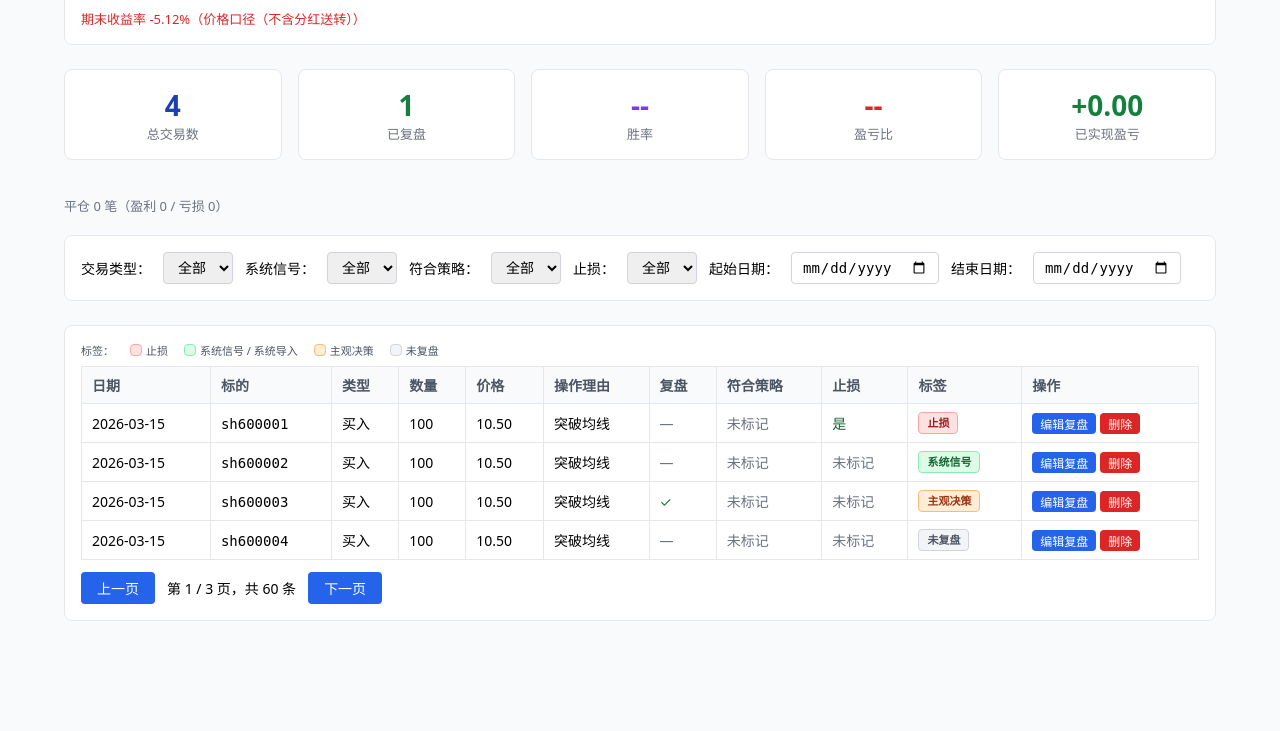
Test: T69 ③ · 分页可推进（修 setPage 缺失 bug） › 第 1 页时「上一页」禁用，最后一页时「下一页」禁用
(page scrolled)
Check: the button "上一页" is disabled, box [81,572,155,604]
Click the button "下一页". click: (345, 588)
box: [308,572,382,604]
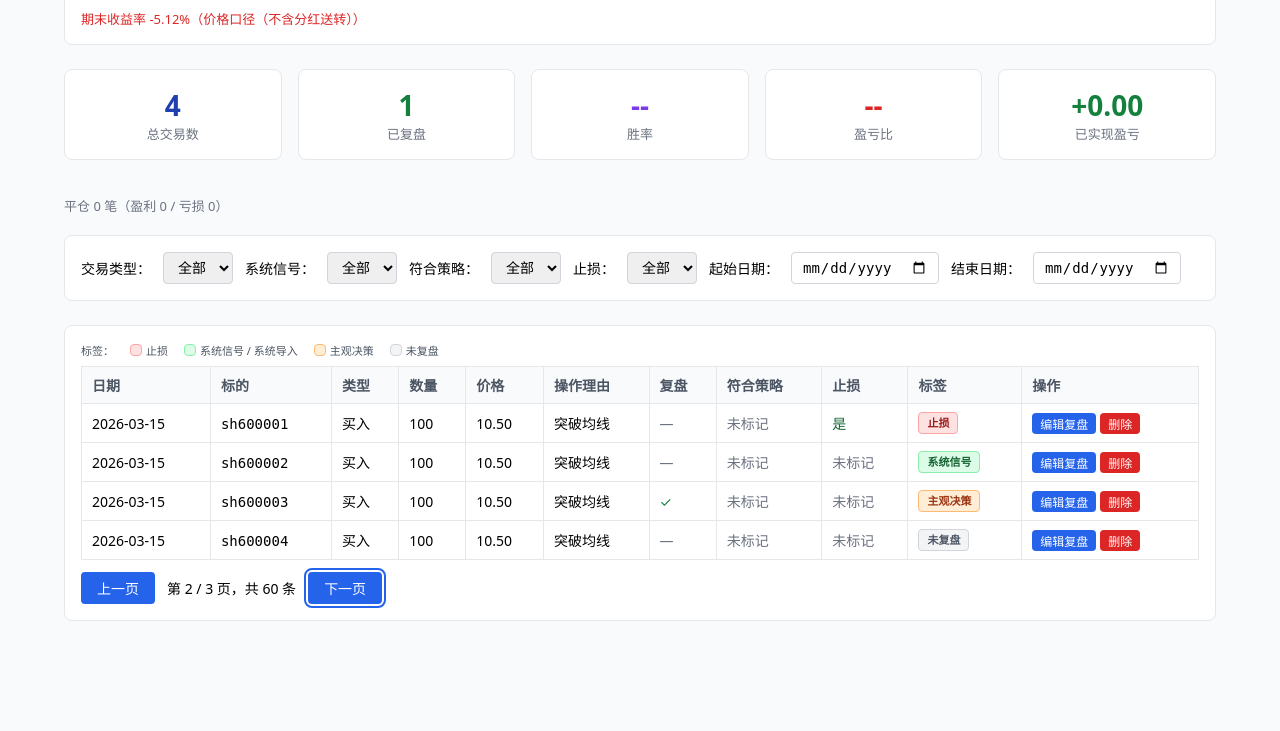
Check: the text "第 2 / 3 页，共 60 条" is shown, box [167,578,296,598]
Click the button "下一页". click: (345, 588)
box: [308,572,382,604]
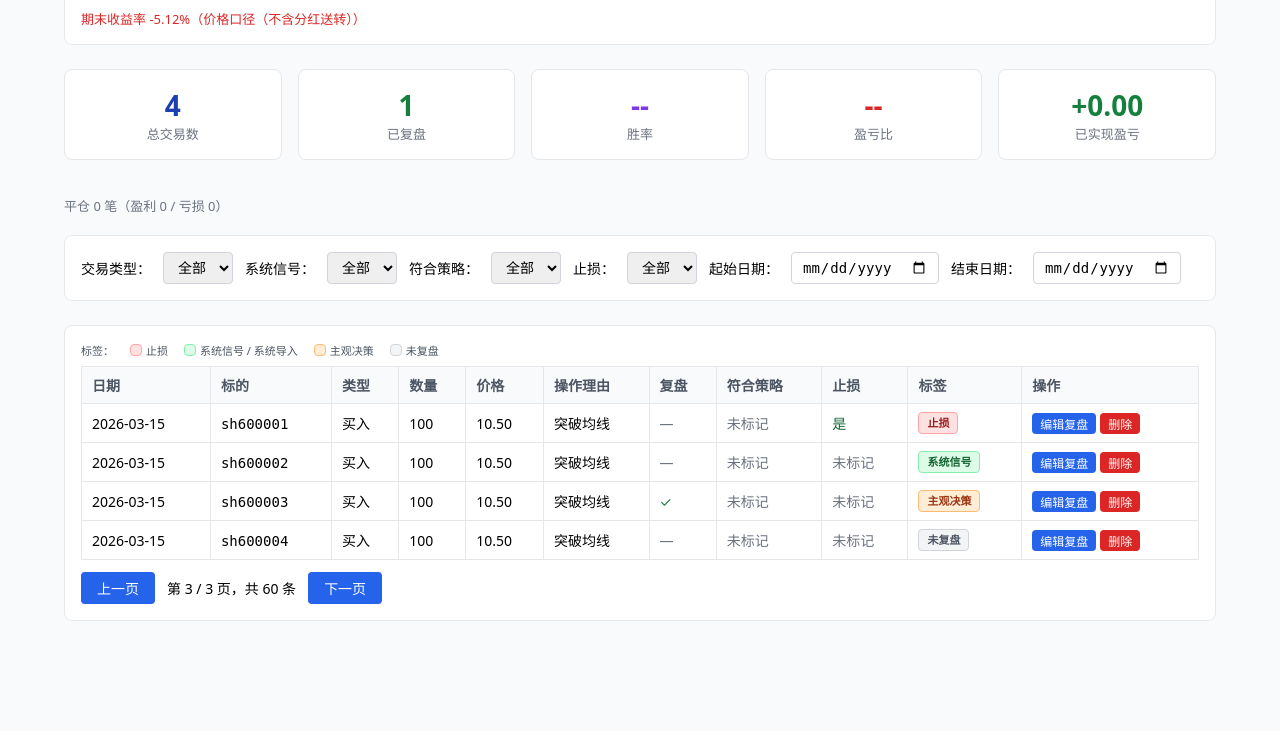
Check: the text "第 3 / 3 页，共 60 条" is shown, box [167,578,296,598]
